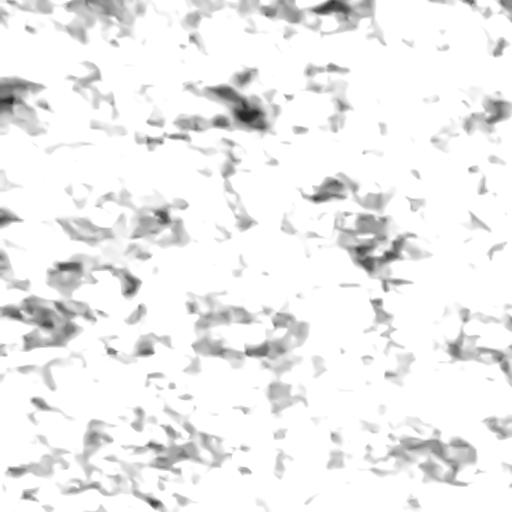egg: (312, 0, 350, 13)
